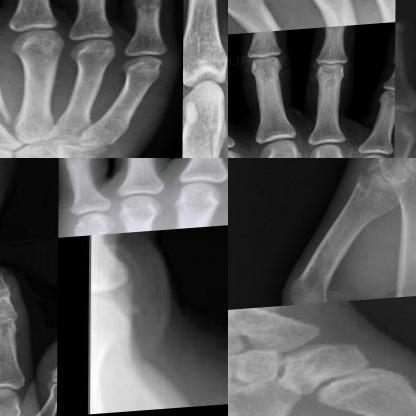fracture: (192, 134, 225, 157)
